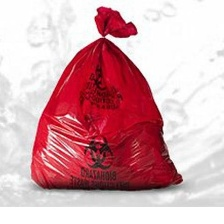plastic_bag: (22, 3, 189, 198)
